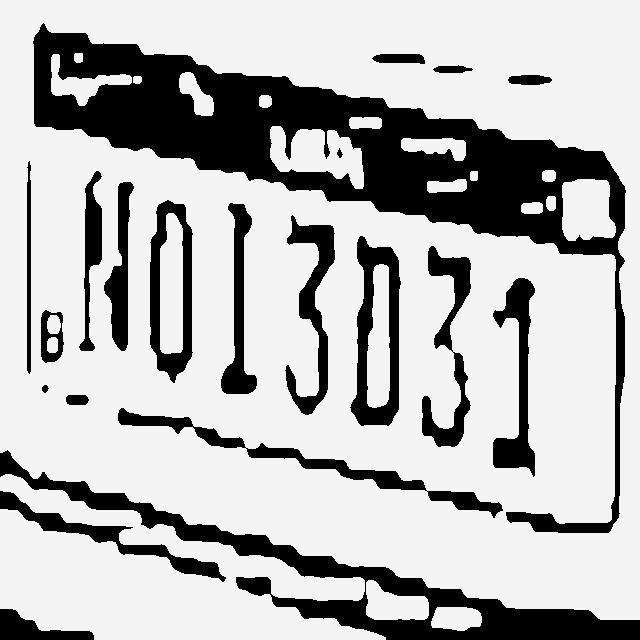1: (488, 273, 543, 479)
3: (416, 243, 474, 452), (279, 216, 338, 421)
d: (349, 232, 403, 434)
i: (212, 195, 264, 403)
n: (79, 168, 138, 364)
o: (144, 191, 198, 388)
